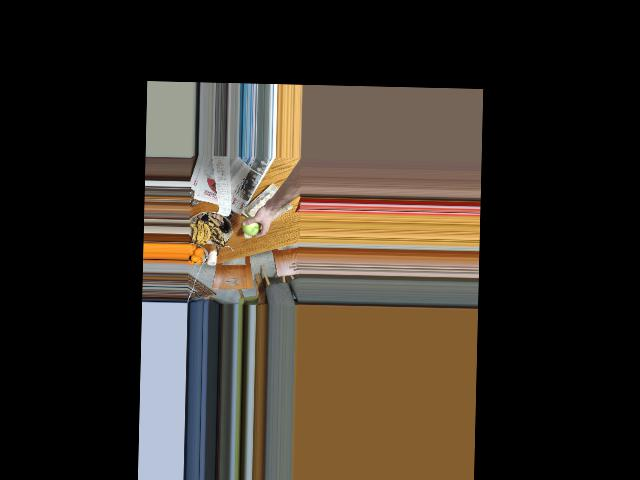apple: (241, 215, 262, 236)
